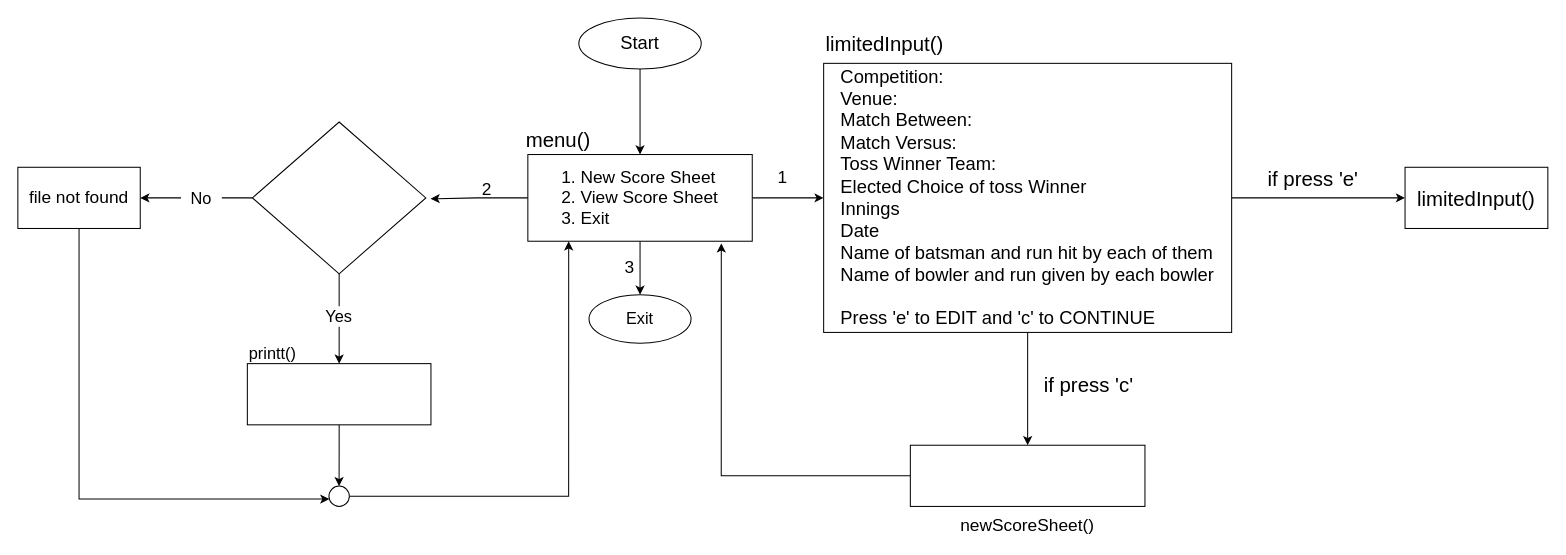
This 1566x555 diagram has some shape labels left out. The centre of each missing label's shape, as x and y in pixels:
"Info stored successfully" belongs at [1027,475].
"input fileName search the file" belongs at [338,197].
"show the information" belongs at [338,394].
